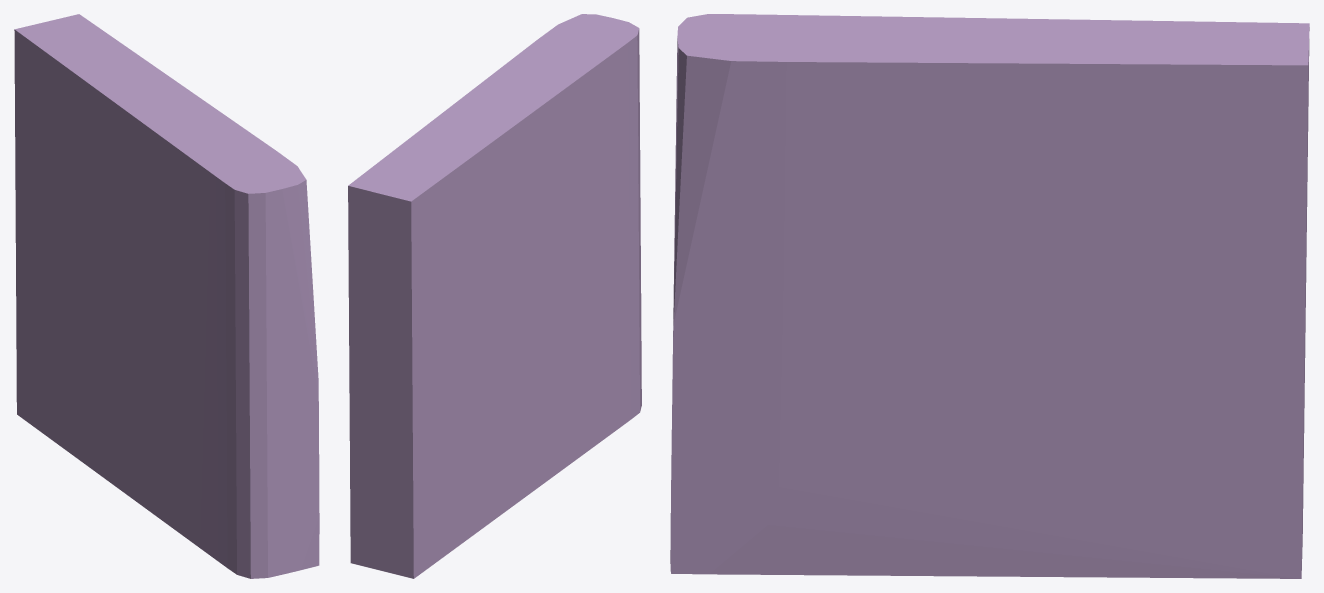
The model's file is converted_Downdraft_Assy_collision_2_bea3ccff.obj.
3 renders of one model, left to right at view 1: azimuth 30°, elevation 25°; view 2: azimuth 150°, elevation 25°; view 3: azimuth 270°, elevation 25°, orthographic. The views are drawn at different scales.
Size of the model in its own units: 0.0669 by 0.3432 by 0.382.
